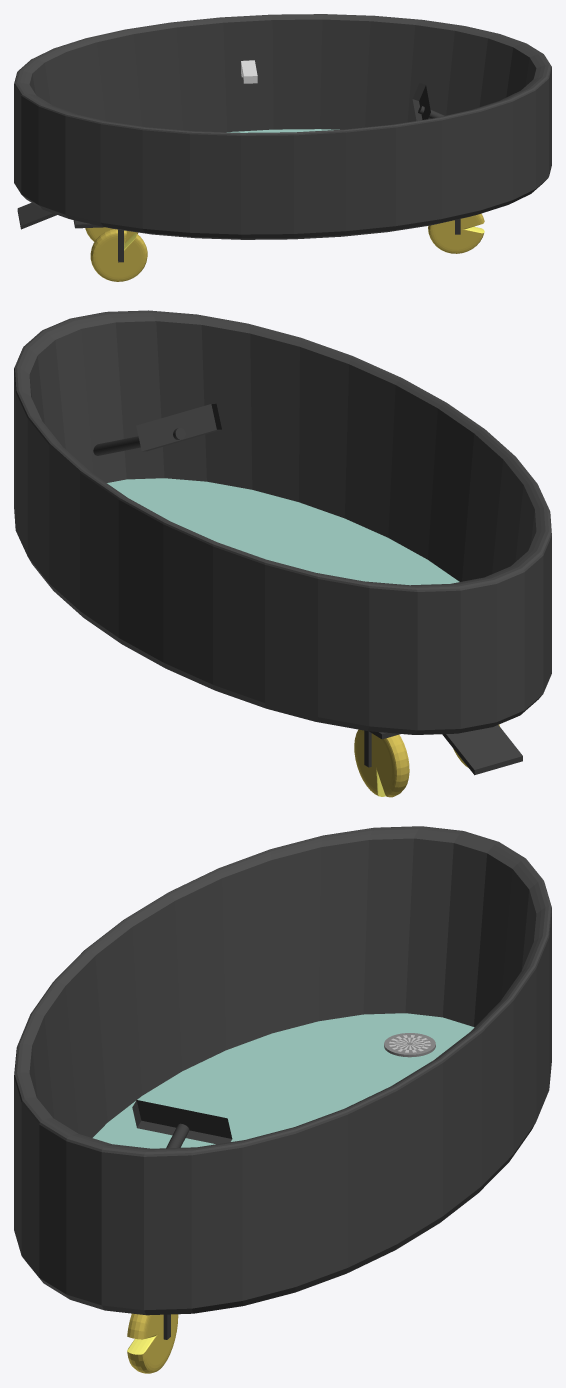
File: bathcheese.gltf
3 renders of one model, top to bottom at view 1: azimuth 30°, elevation 25°; view 2: azimuth 150°, elevation 25°; view 3: azimuth 270°, elevation 25°, orthographic. The views are drawn at different scales.
Parts seen in each view (by area): view 1: Cube.047; view 2: Cube.047; view 3: Cube.047.
Boxes of the visible parts, x1,y1,x2,y2 form: Cube.047: (14, 14, 551, 281); Cube.047: (14, 310, 551, 797); Cube.047: (14, 826, 551, 1373).
Bounding box in the file's own units: 10.87 × 4.32 × 7.5.
